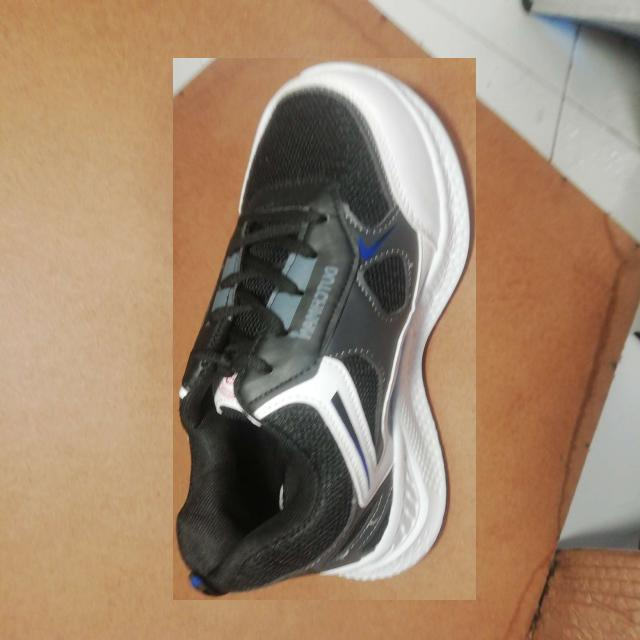shoe: (173, 58, 476, 600)
